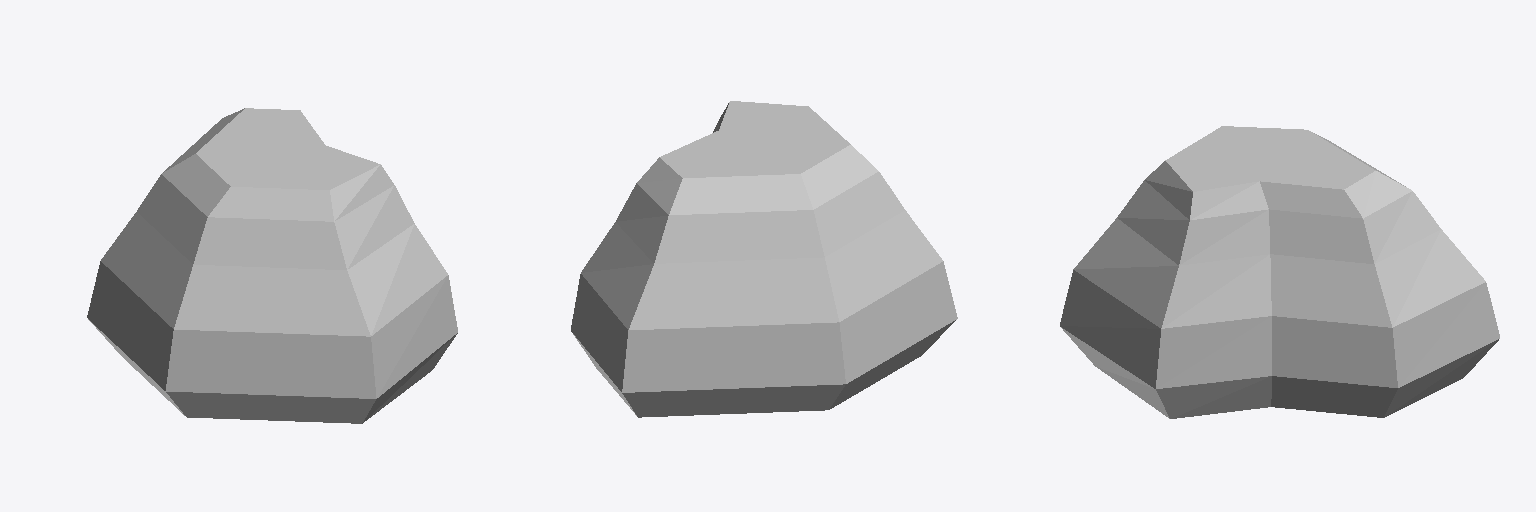
The model's file is rock1.obj.
3 views of the same model, side by side, from view 1: azimuth 30°, elevation 25°; view 2: azimuth 150°, elevation 25°; view 3: azimuth 270°, elevation 25° (orthographic).
Parts seen in each view (by area): view 1: polySurface1; view 2: polySurface1; view 3: polySurface1.
Part boxes in pixels (bbox=[...]): polySurface1: bbox=[87, 108, 457, 423]; polySurface1: bbox=[571, 101, 957, 417]; polySurface1: bbox=[1060, 126, 1499, 418].
Size of the model in its own units: 36.89 by 26.06 by 50.27.